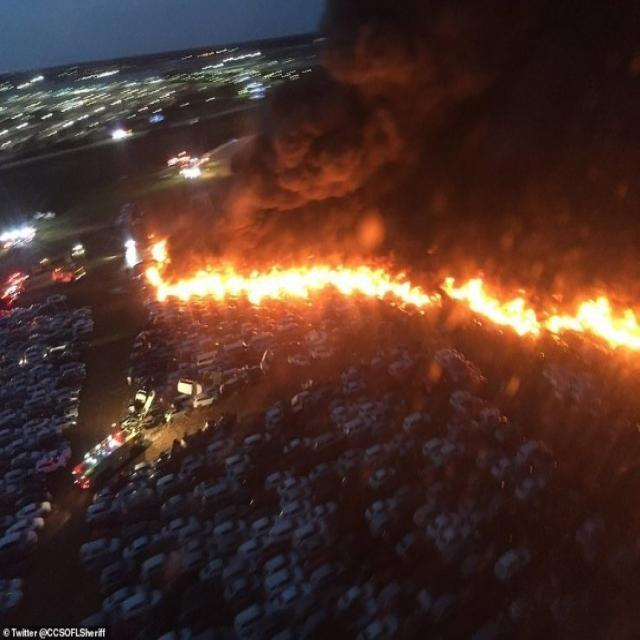Fire: (148, 242, 430, 314), (448, 272, 638, 350)
